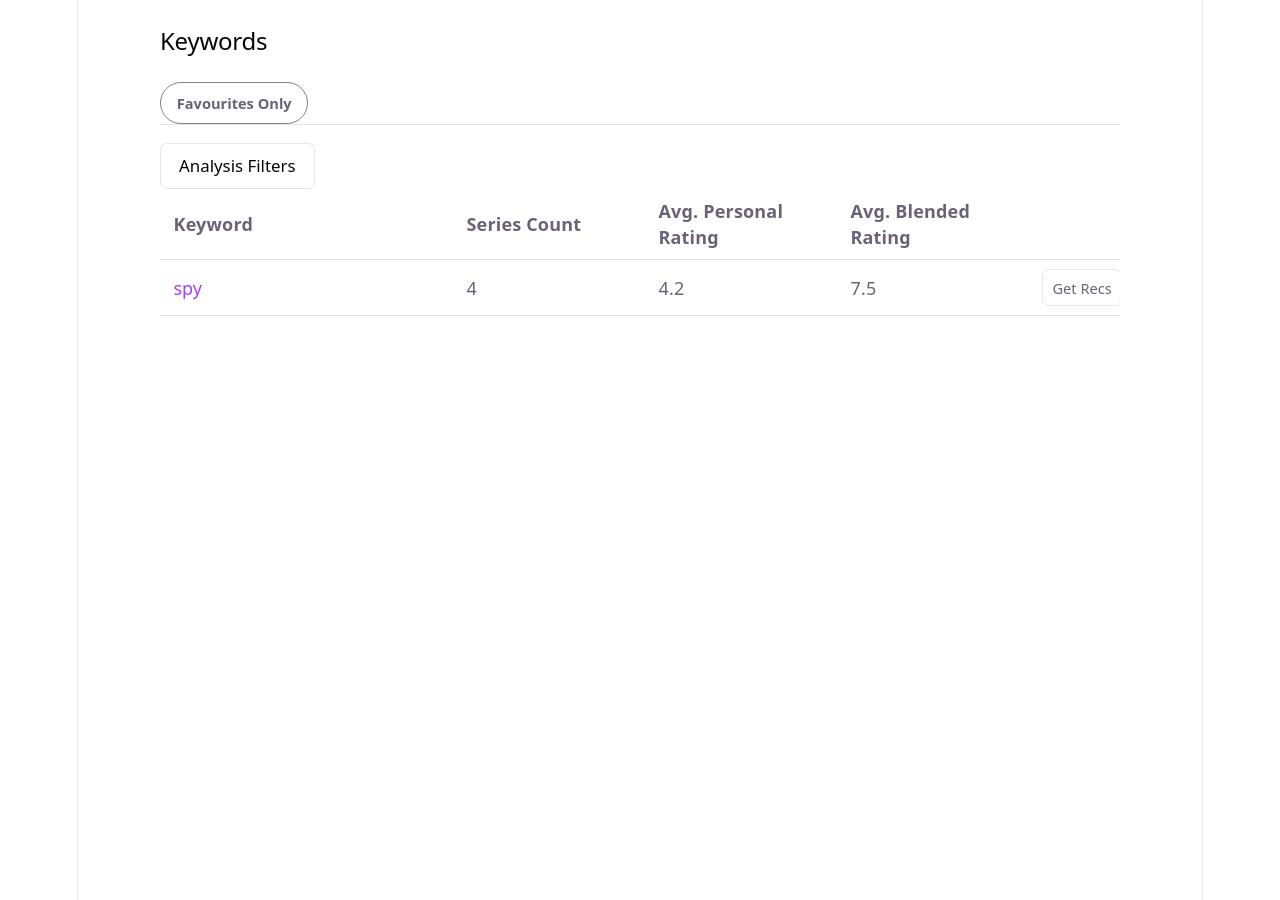
it: FRONTEND-133-AC-08: KeywordsView wires the recommendations action › opens KeywordRecommendationsModal seeded with the clicked keyword
The width and height of the screenshot is (1280, 900).
Expected: the button "spy" is shown, [174,275,202,301]
Click the button "Get Recs" at (1082, 288), box [1042,269,1122,306]
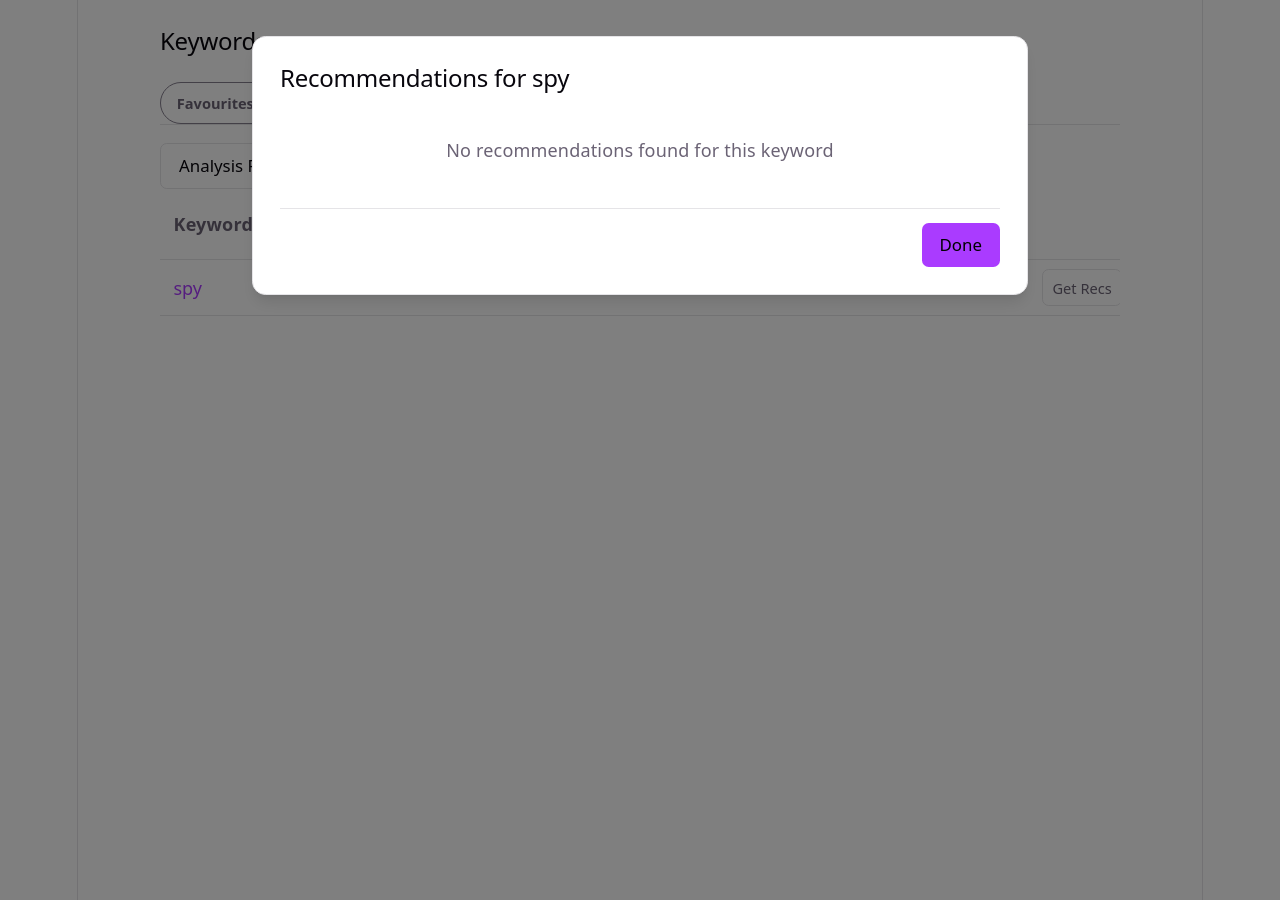
Expected: the dialog "Recommendations for" is shown, [252,36,1028,295]
